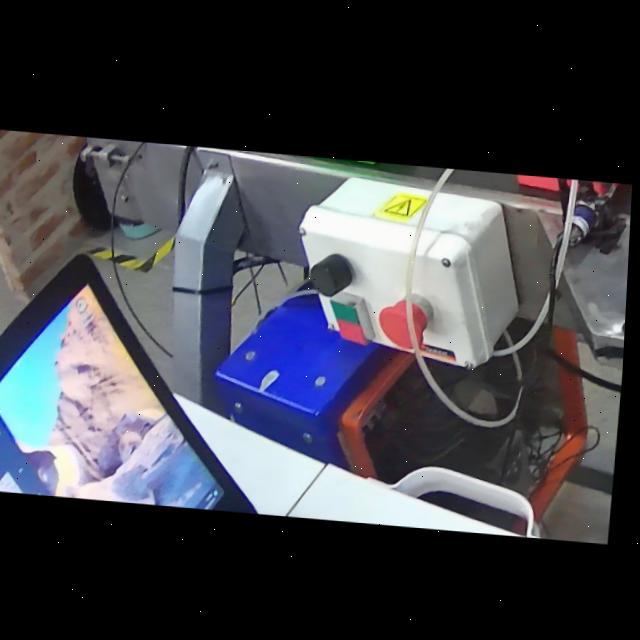greenBox: (300, 152, 414, 166)
redBox: (504, 168, 634, 195)
